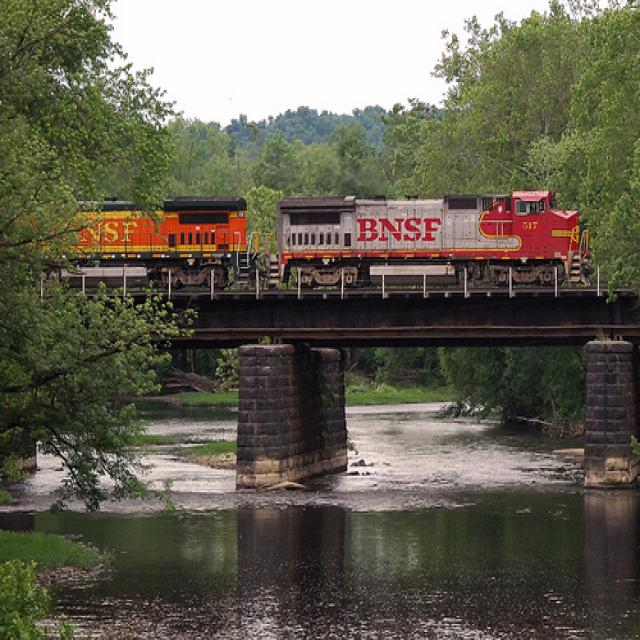locomotive: (270, 166, 600, 302)
